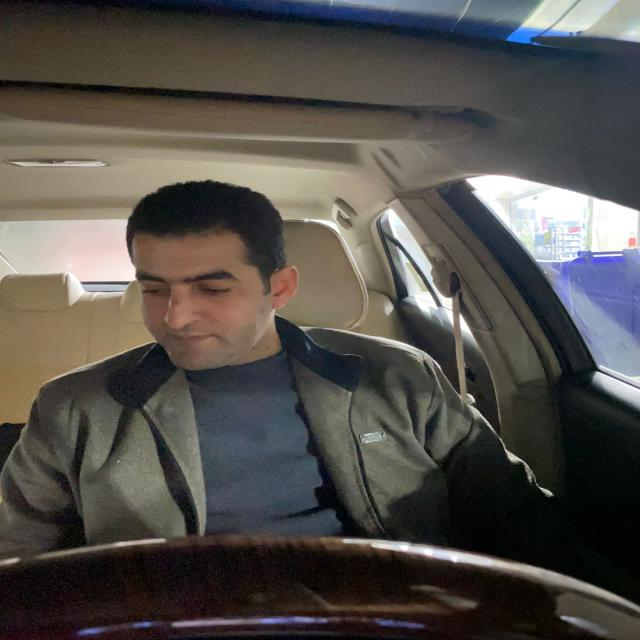person: (116, 179, 314, 376)
